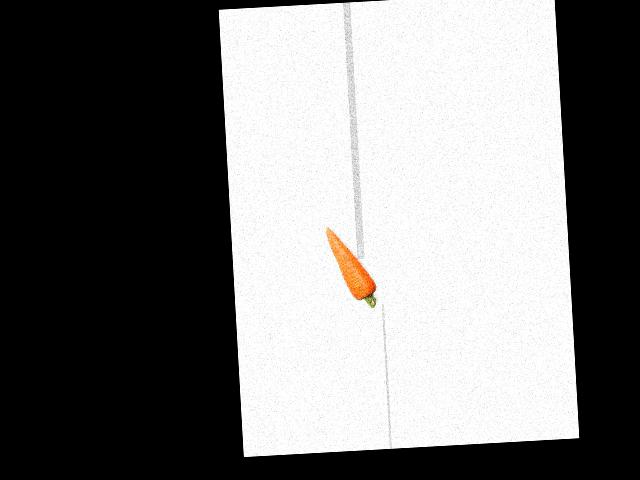carrot: (324, 224, 379, 310)
